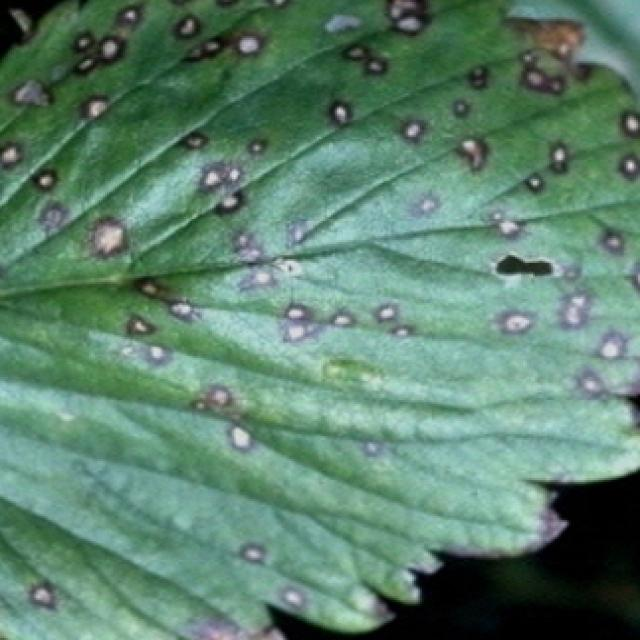Leaf Spot: (0, 0, 640, 640)
